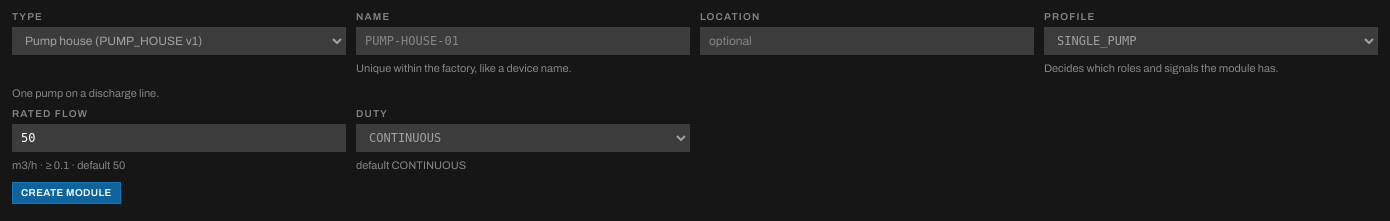
Scenario: module list and new-module form › offers the profiles and settings of the selected type and nothing of another
Expected: the dropdown labelled "Profile" is shown, [1044,27,1378,55]
Expected: the number field labelled "Rated flow" holds "50", [12,124,346,152]
Step 1. Select "Tank (TANK v1)" in the dropdown labelled "Type" → (179, 41), box [12,27,346,55]
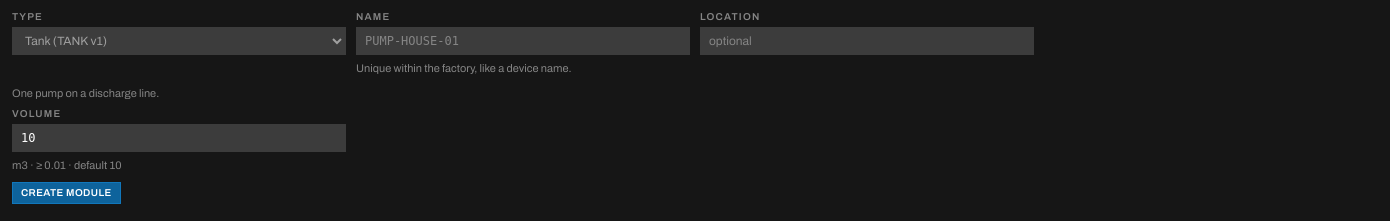
Result: the label labelled "Profile" is gone
Result: the label labelled "Rated flow" is gone
Result: the number field labelled "Volume" holds "10" at [12,124,346,152]
